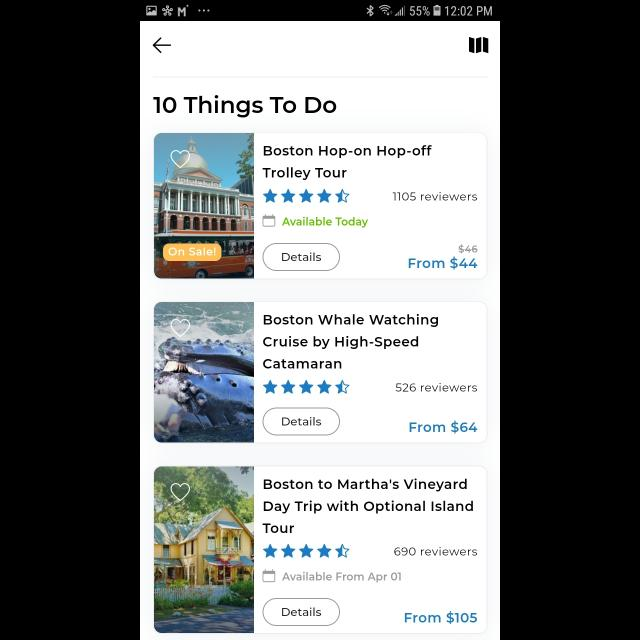icon: (262, 544, 350, 558), (262, 380, 350, 394), (262, 189, 350, 203), (171, 482, 191, 502), (170, 319, 190, 337), (171, 150, 191, 168), (468, 37, 488, 54), (152, 38, 172, 54), (262, 569, 276, 583), (262, 215, 276, 228)
image: (154, 467, 254, 633), (154, 134, 254, 278), (154, 302, 254, 442)
text: (262, 478, 473, 534), (262, 314, 438, 370), (263, 146, 432, 180), (154, 95, 336, 118), (283, 572, 401, 582), (282, 216, 368, 228), (405, 610, 477, 624), (409, 256, 477, 270), (410, 421, 478, 434), (392, 192, 478, 202), (394, 547, 478, 557), (395, 383, 477, 392), (458, 244, 478, 253)
textbutton: (263, 408, 341, 437), (262, 598, 340, 626), (263, 243, 341, 271), (162, 243, 222, 261)
uppertaskbar: (140, 1, 500, 22)
